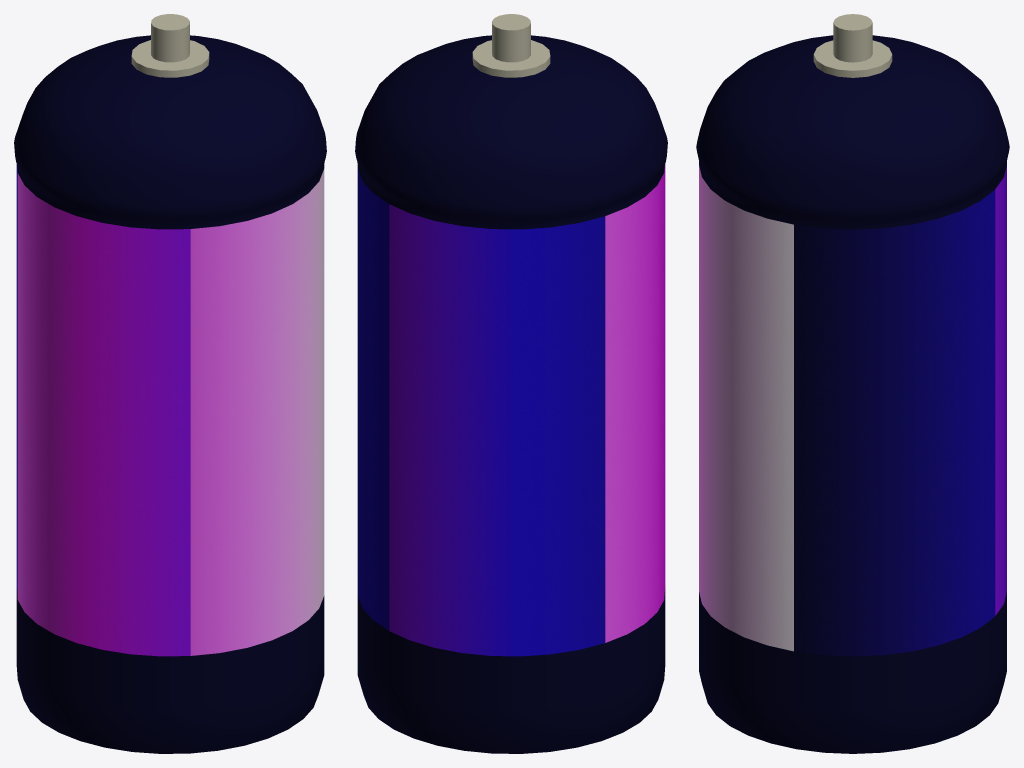
The model's file is can-04.glb.
3 views of the same model, side by side, from view 1: azimuth 30°, elevation 25°; view 2: azimuth 150°, elevation 25°; view 3: azimuth 270°, elevation 25° (orthographic).
Visible parts, largest first — view 1: label, body, valvola, guarnizione; view 2: label, body, valvola, guarnizione; view 3: label, body, valvola, guarnizione.
Part boxes in pixels (bbox=[...]): label: bbox=[16, 164, 324, 656]; body: bbox=[14, 35, 326, 753]; valvola: bbox=[151, 14, 189, 62]; guarnizione: bbox=[131, 40, 209, 77]; label: bbox=[357, 164, 665, 656]; body: bbox=[355, 35, 667, 753]; valvola: bbox=[492, 14, 530, 62]; guarnizione: bbox=[472, 40, 550, 77]; label: bbox=[699, 165, 1006, 656]; body: bbox=[696, 35, 1009, 753]; valvola: bbox=[833, 14, 872, 62]; guarnizione: bbox=[813, 40, 892, 77].
Size of the model in its own units: 0.7989 by 1.9 by 0.7989.
Materials: 3 (1 with a texture image).
